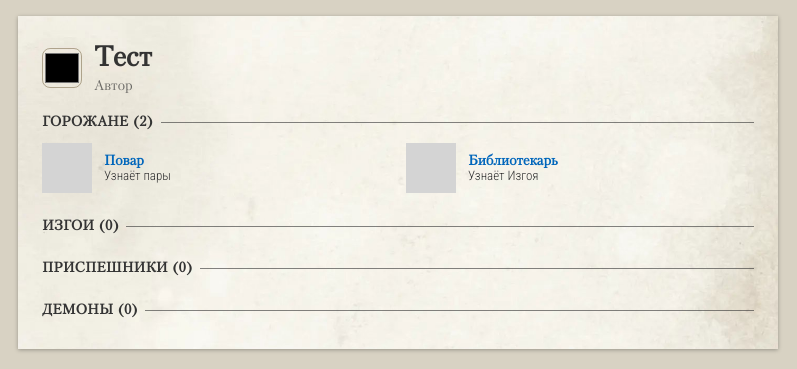
Script › удаляет роль по клику в режиме редактирования
The width and height of the screenshot is (797, 369).
Click the button "Библиотекарь Узнаёт Изгоя". click: coordinates (431, 168)
box: [400,137,760,199]
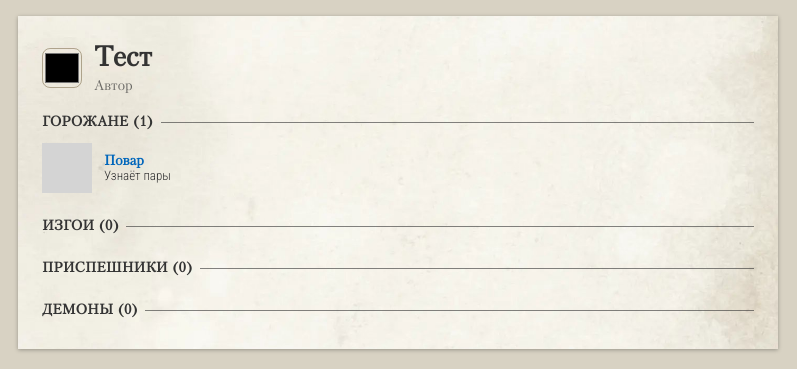
Expected: the text "Повар" is shown, [104,154,144,168]
Expected: the button "Библиотекарь" is gone
Expected: the heading "Горожане (1)" is shown, [42,109,152,135]
